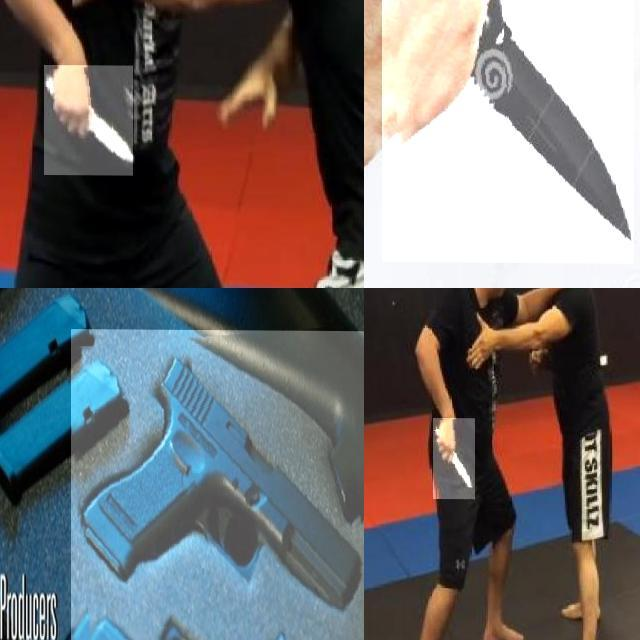-: (381, 0, 634, 263), (44, 65, 133, 175), (432, 418, 476, 498)
gun-knife-thesis - v11 Yolov5 augmented: (71, 328, 364, 640)
